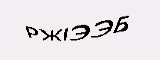І: (61, 25, 71, 42)
Б: (114, 11, 131, 35)
Ж: (39, 26, 63, 41)
Р: (24, 24, 39, 40)
Э: (70, 21, 92, 42), (92, 18, 112, 41)
